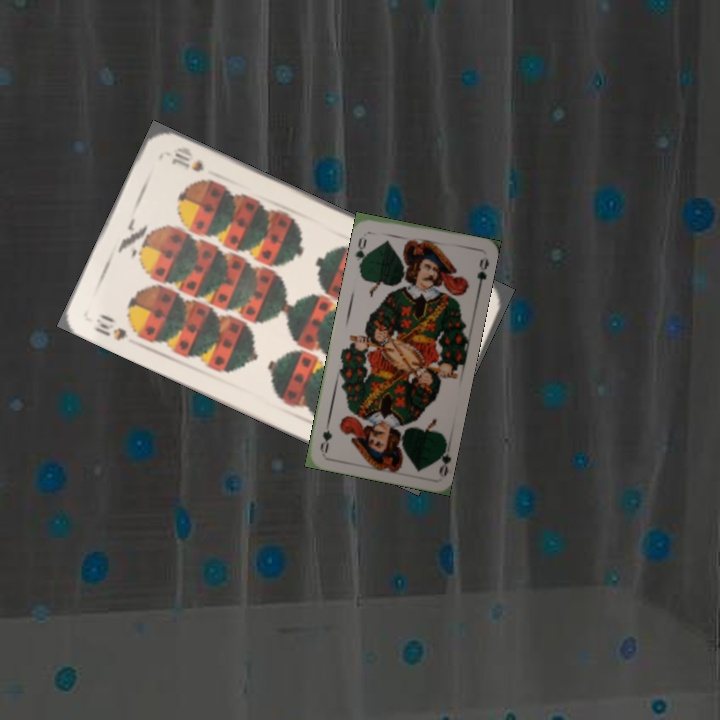GO: (432, 437, 453, 479), (351, 232, 371, 269)
S10: (90, 309, 130, 344)
